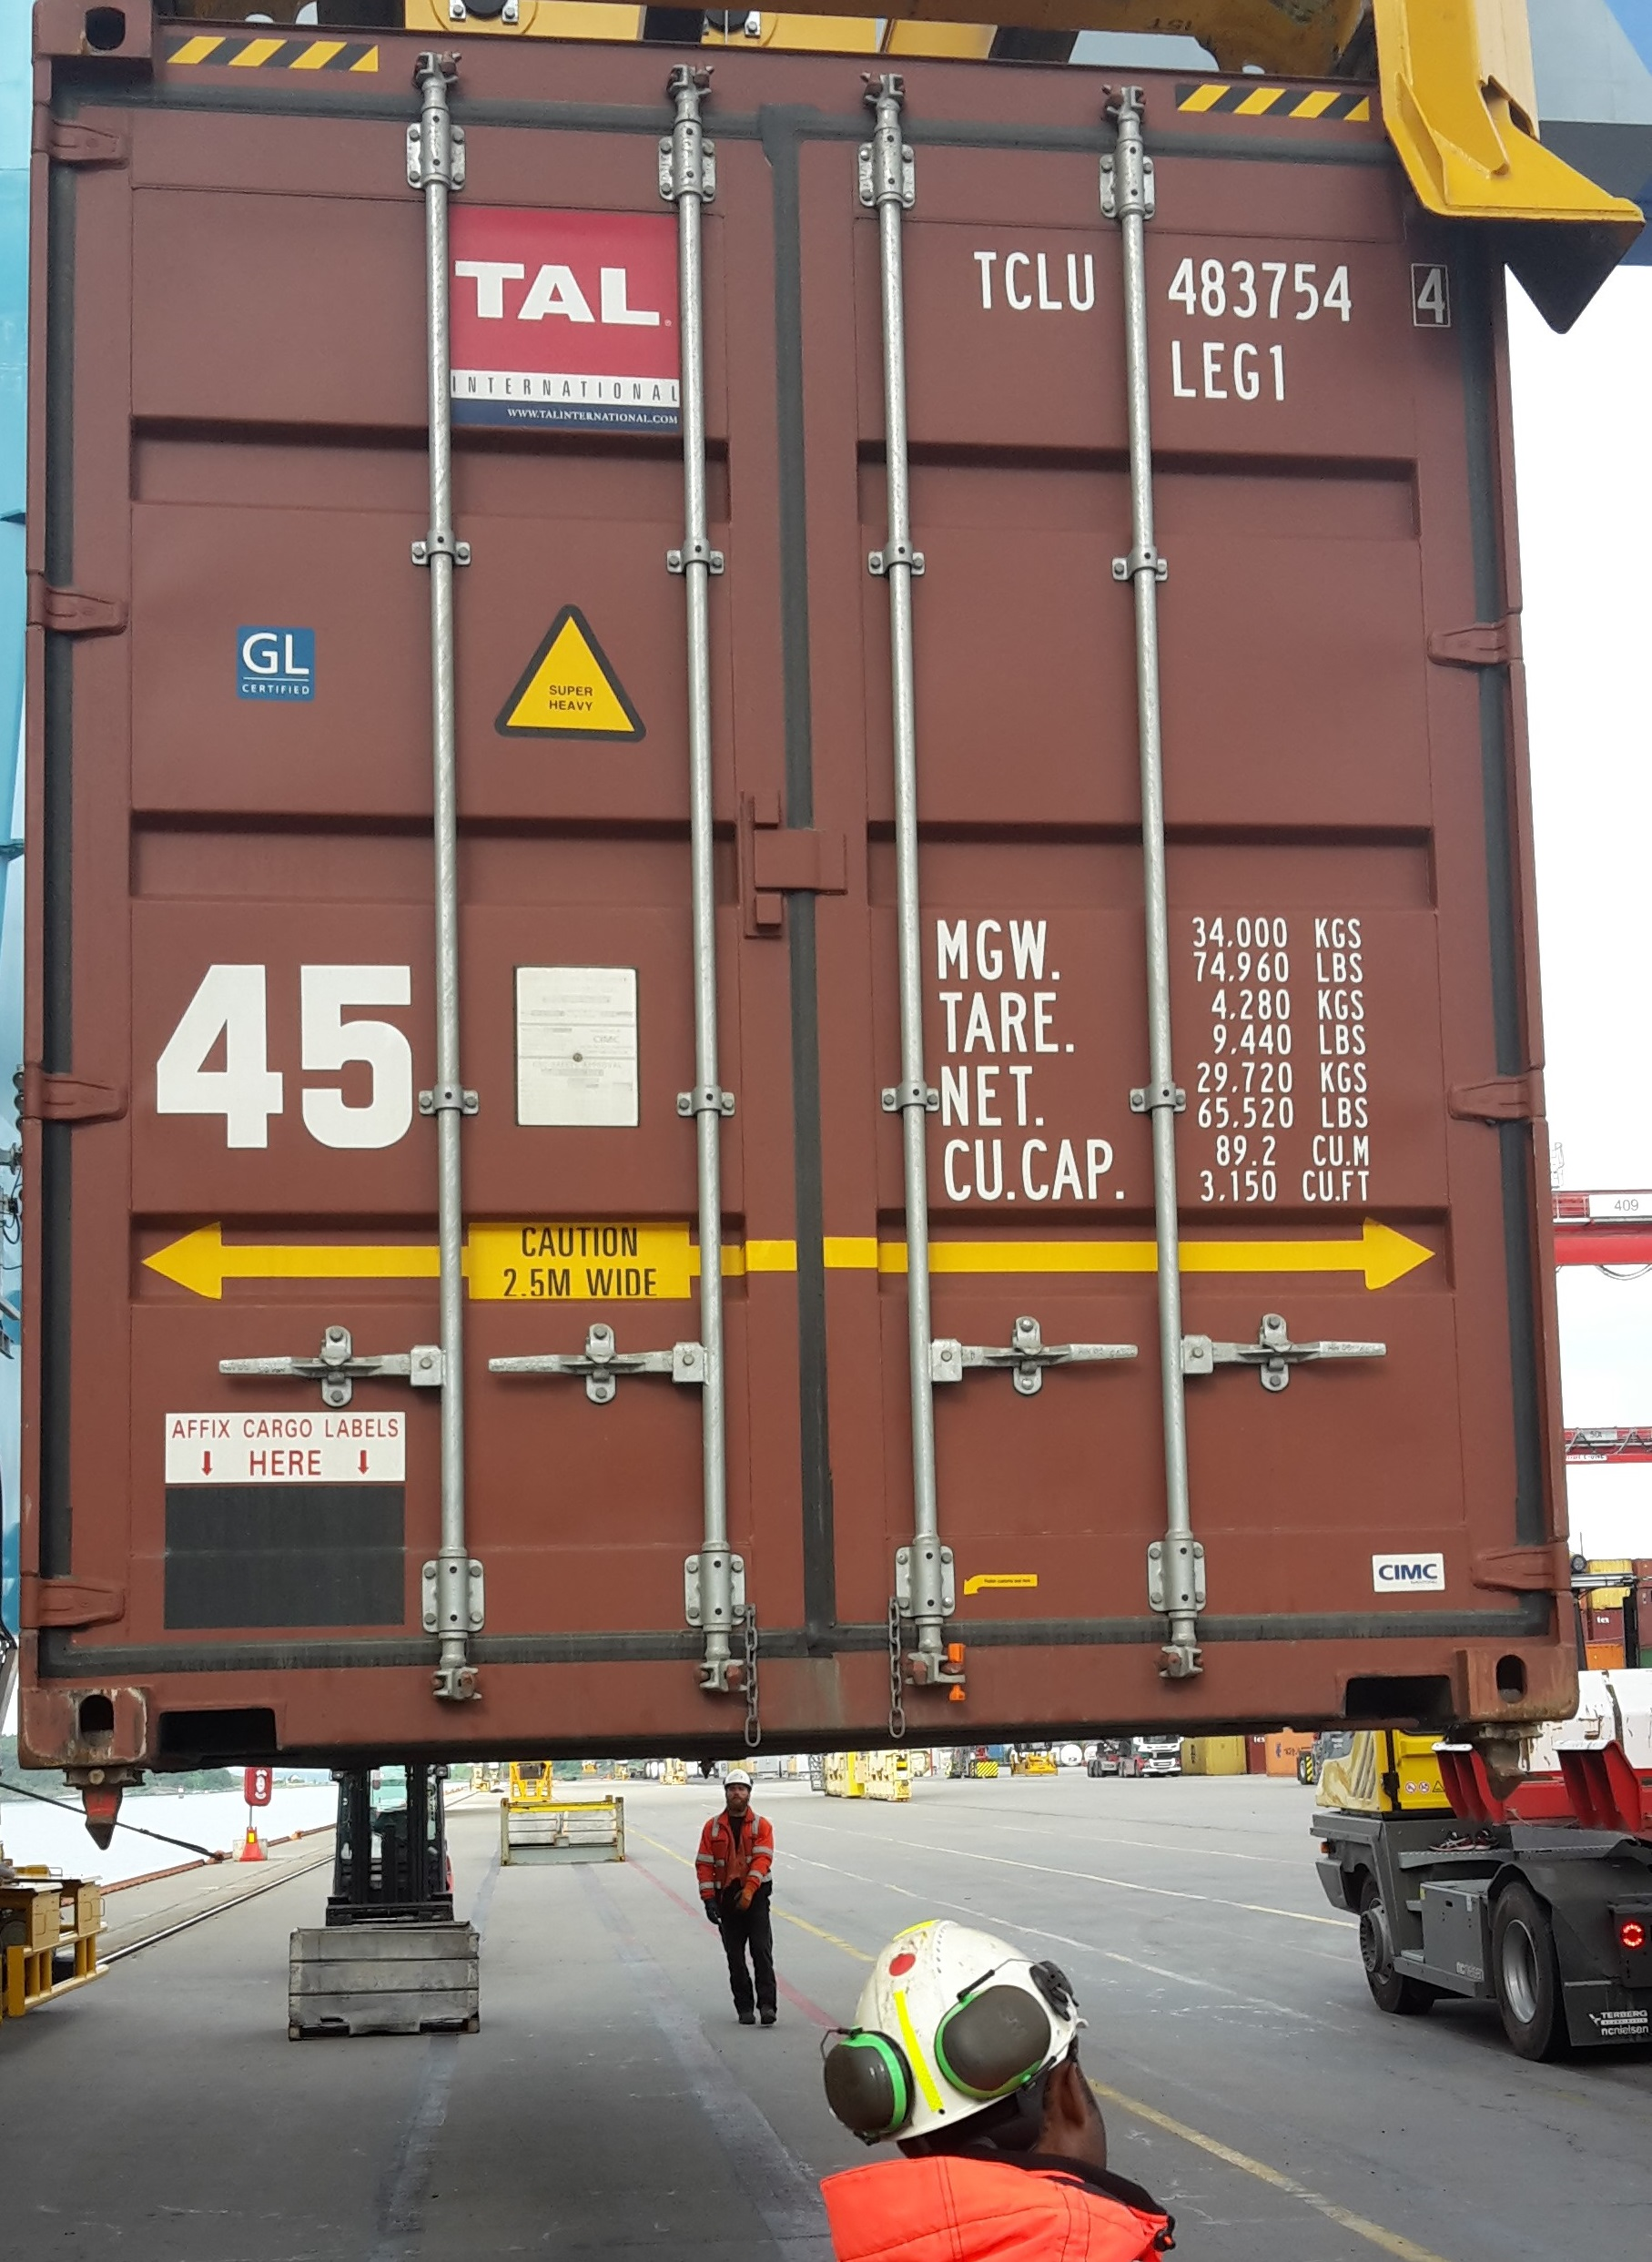container_door: (12, 11, 1580, 1721)
